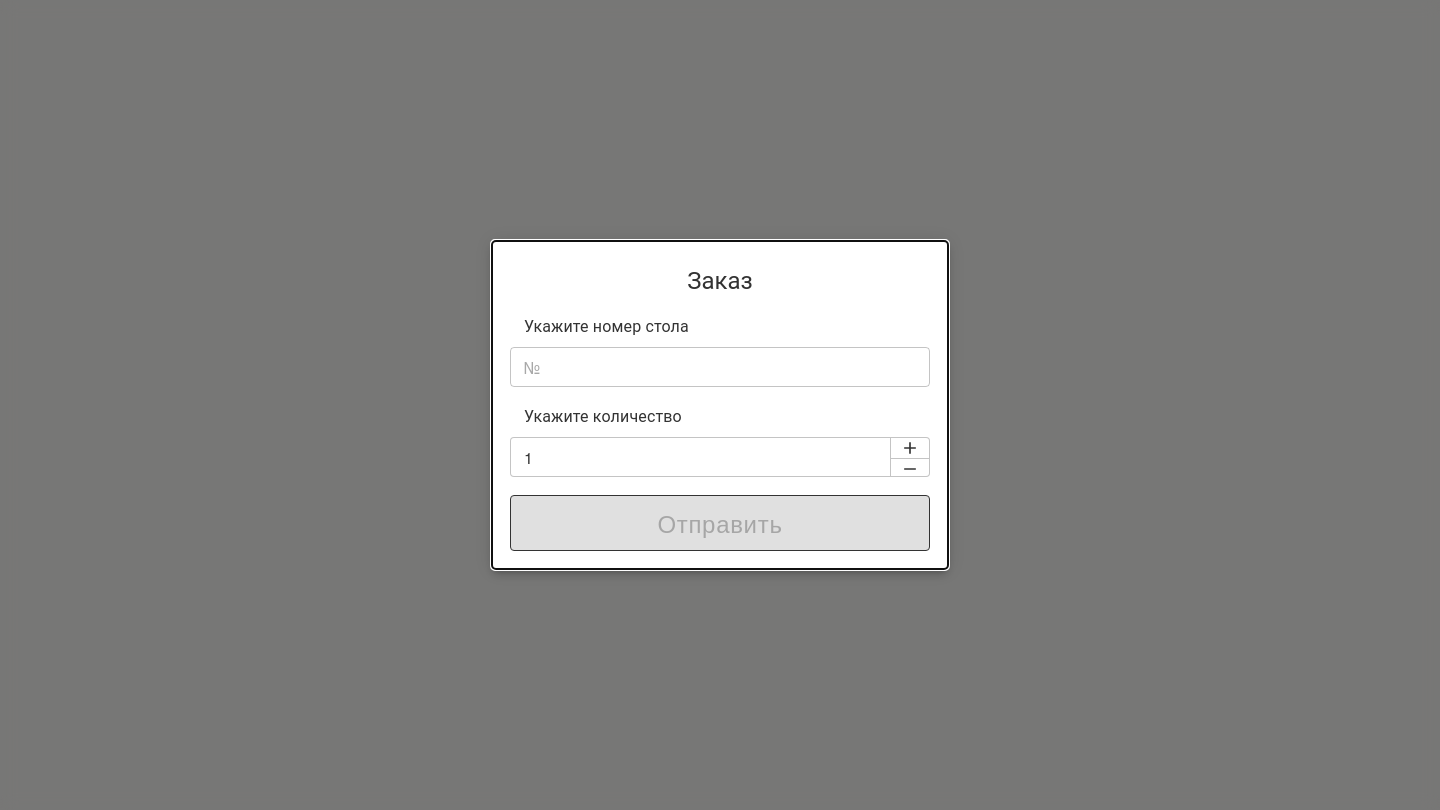
OrderModal › успешная отправка: вызывает fetch с правильным payload, закрывает модалку, показывает 'Заказ отправлен'
In the field with placeholder "№": (720, 367) [510,347,930,387], type "5"
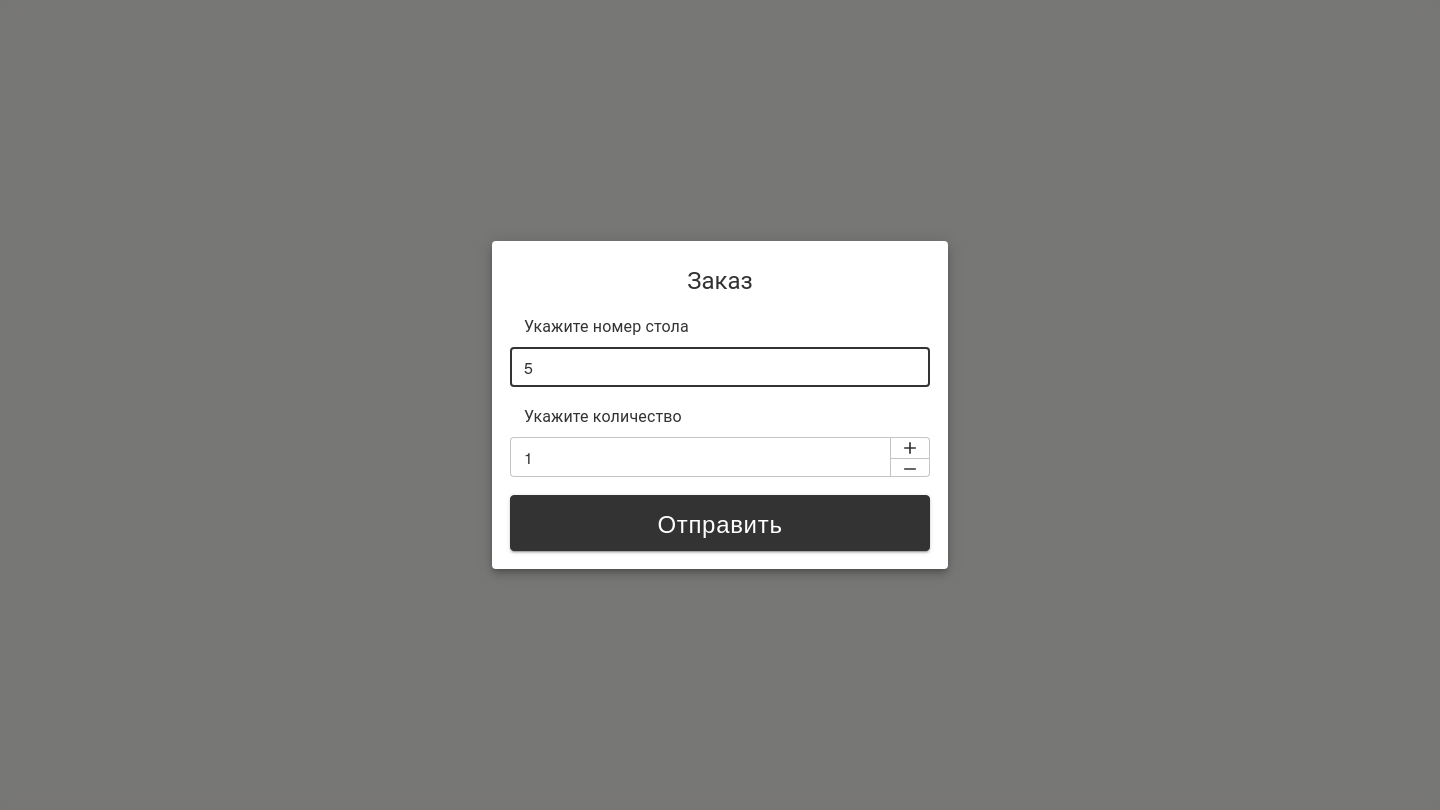
Now the button "Отправить" is enabled
Click the button "Отправить": (720, 523) [510,495,930,551]
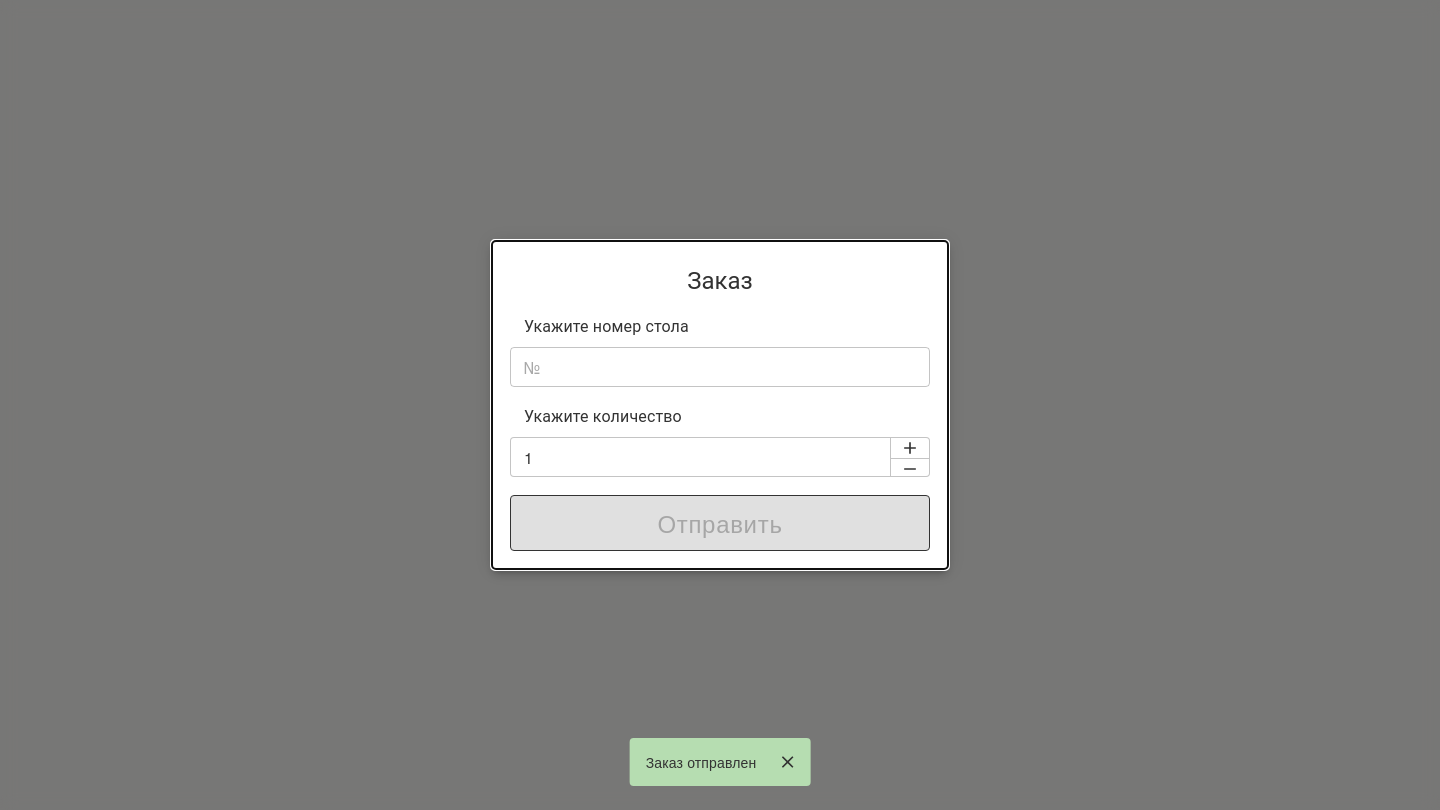
Now the text "Заказ отправлен" is shown, box [646,752,756,772]
